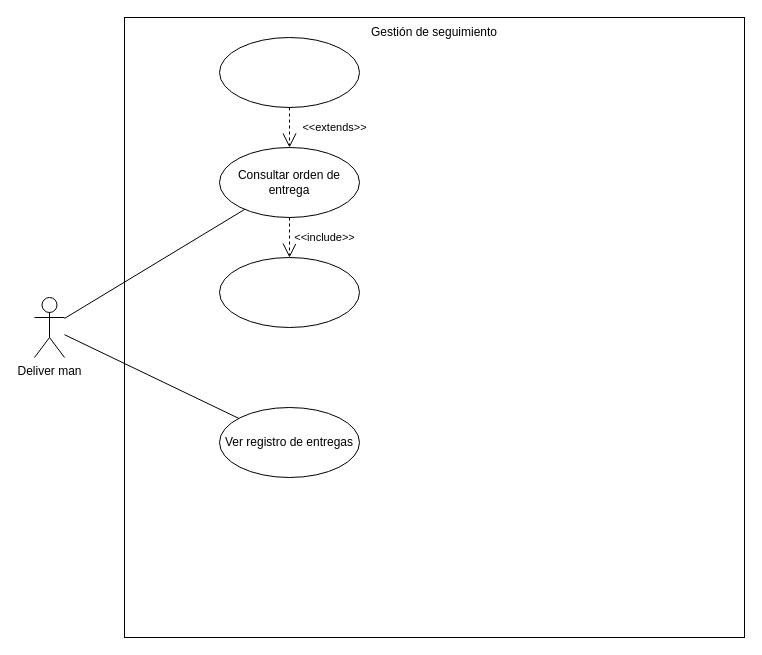
Image size: 762x655. Some labels were removed from this diagram. The shapes that lost their labels are listed below. From the top down, each one's centre as x and y in pixels, then its label:
At pixel 289 72: "Cambiar estado de estatus de entrega".
At pixel 289 292: "Organizar ordenes por zona".
